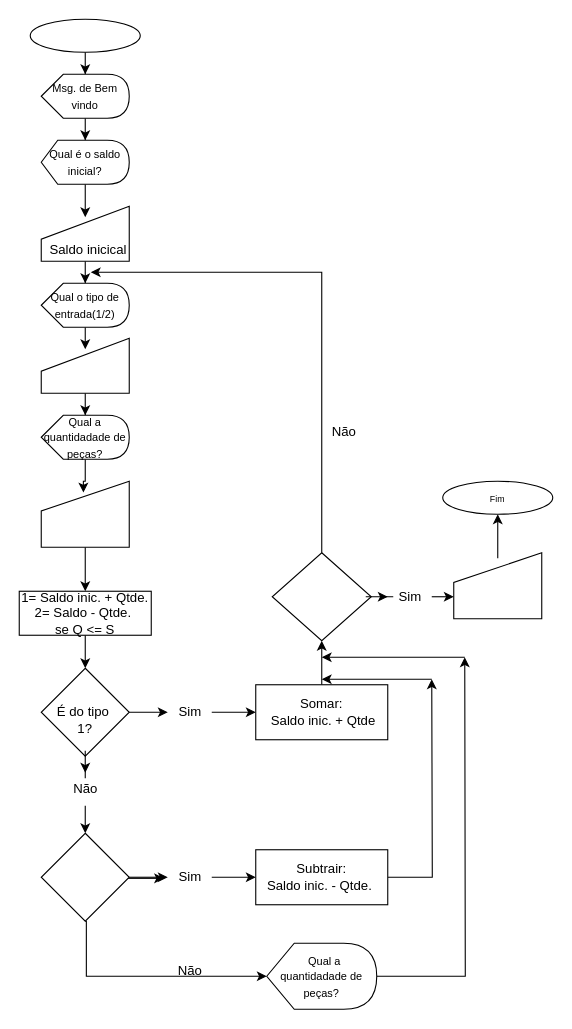
Some shapes in this 572 by 1029 pixel diagram are drawn without their labels. Here are the shapes that lost their labels. From the top down, the centre of each, then its label:
At point (84, 35): "início".
At point (84, 365): "Tipo de entrada".
At point (84, 513): "Quantidade de peças".
At point (321, 596): "Deseja finalizar o programa?".
At point (497, 585): "Sistema encerrado".
At point (84, 876): "Q <= S".
